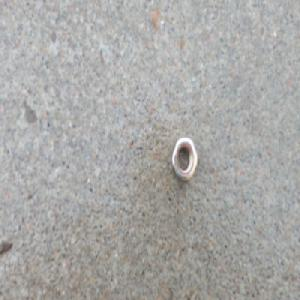Nut: (170, 135, 199, 182)
